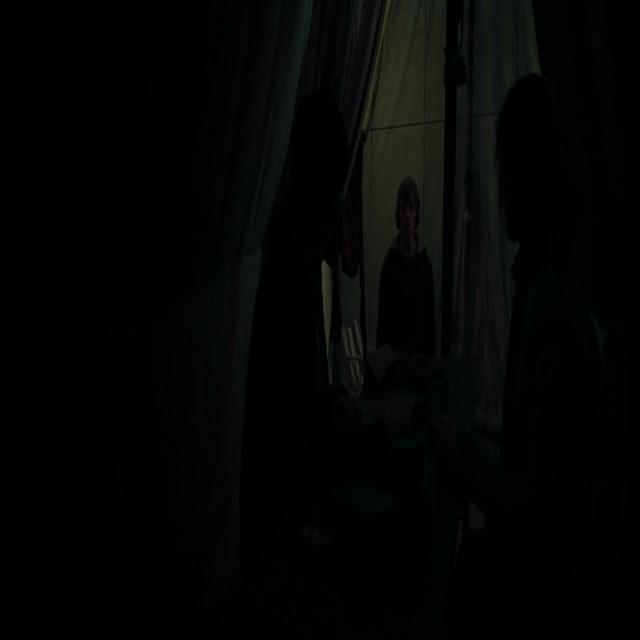People: (482, 32, 594, 640), (254, 81, 357, 532), (374, 136, 434, 412)
